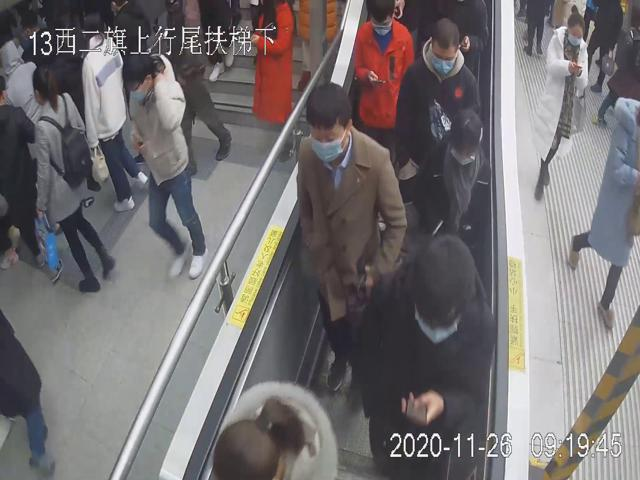person: (296, 81, 408, 399), (359, 232, 496, 480), (117, 41, 207, 284), (30, 61, 116, 293), (393, 15, 484, 180), (414, 100, 492, 253), (534, 4, 589, 206), (351, 0, 416, 148)
